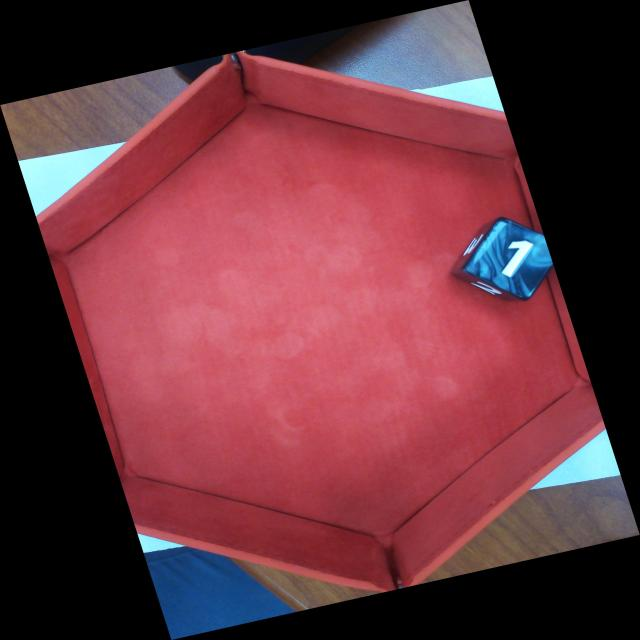dice: (462, 216, 554, 302)
